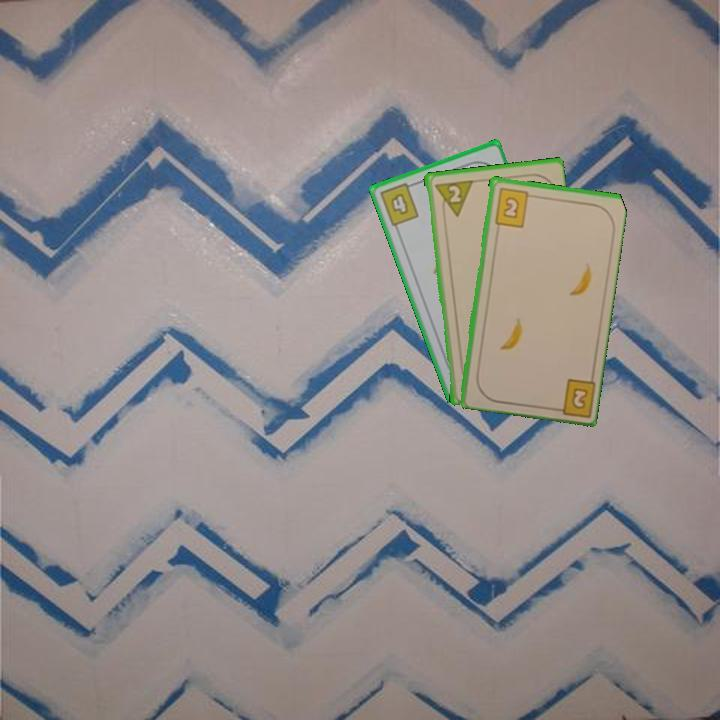2b: (491, 184, 537, 230), (548, 375, 597, 418)
2p: (430, 176, 474, 220)
4b: (376, 179, 422, 229)
